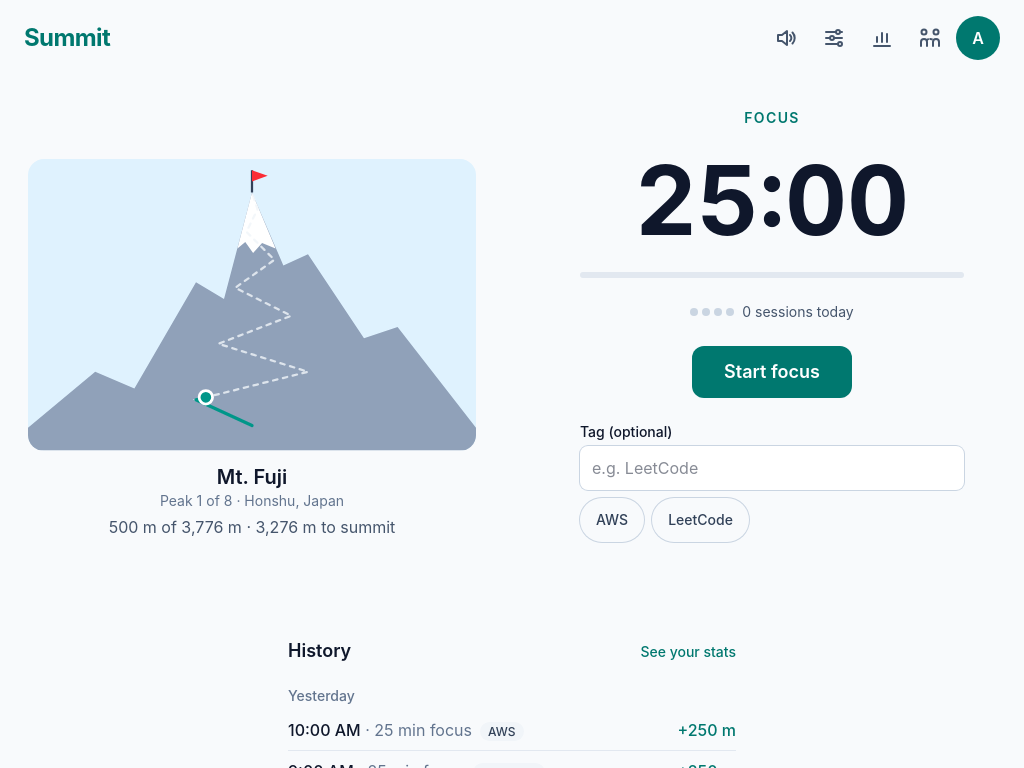
Test: tags › offers the account's recent tags and saves the chosen one with the session
The image size is (1024, 768).
Expected: the link named "Account (Ana)" is shown, [956,16,1000,60]
Expected: the picture named "Climber at" is shown, [28,159,476,451]
Click the button "LeetCode": click(700, 520) [652,498,749,542]
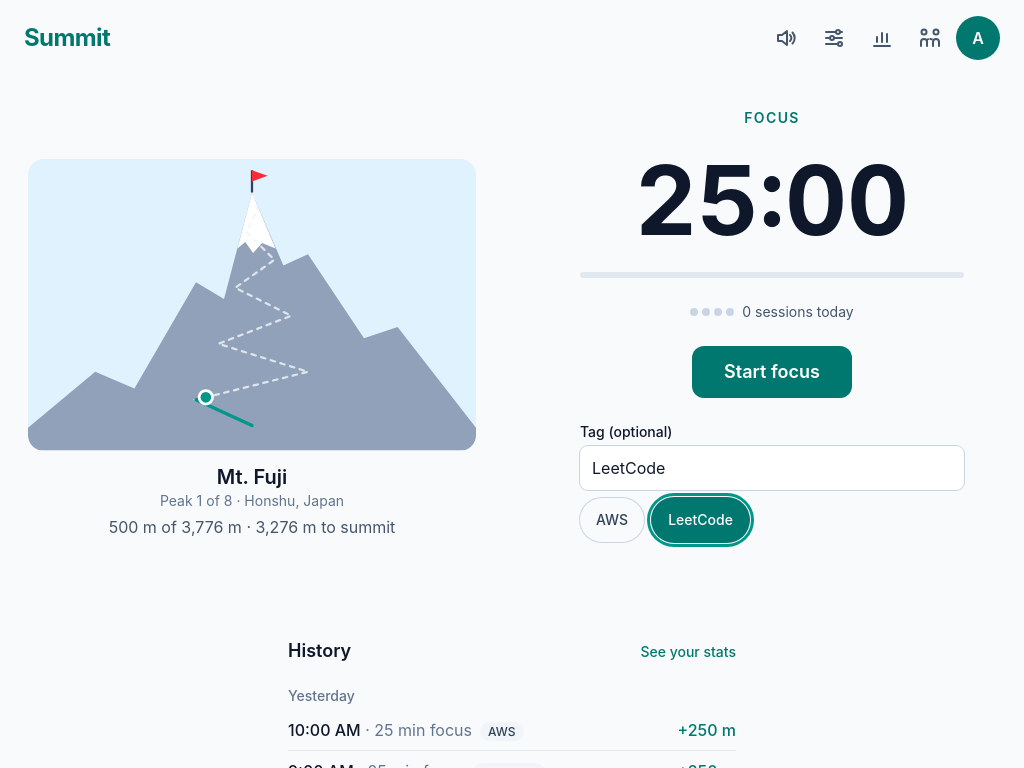
Click the button "Start focus": click(772, 372) [692,346,852,398]
Wait 1500000 ms
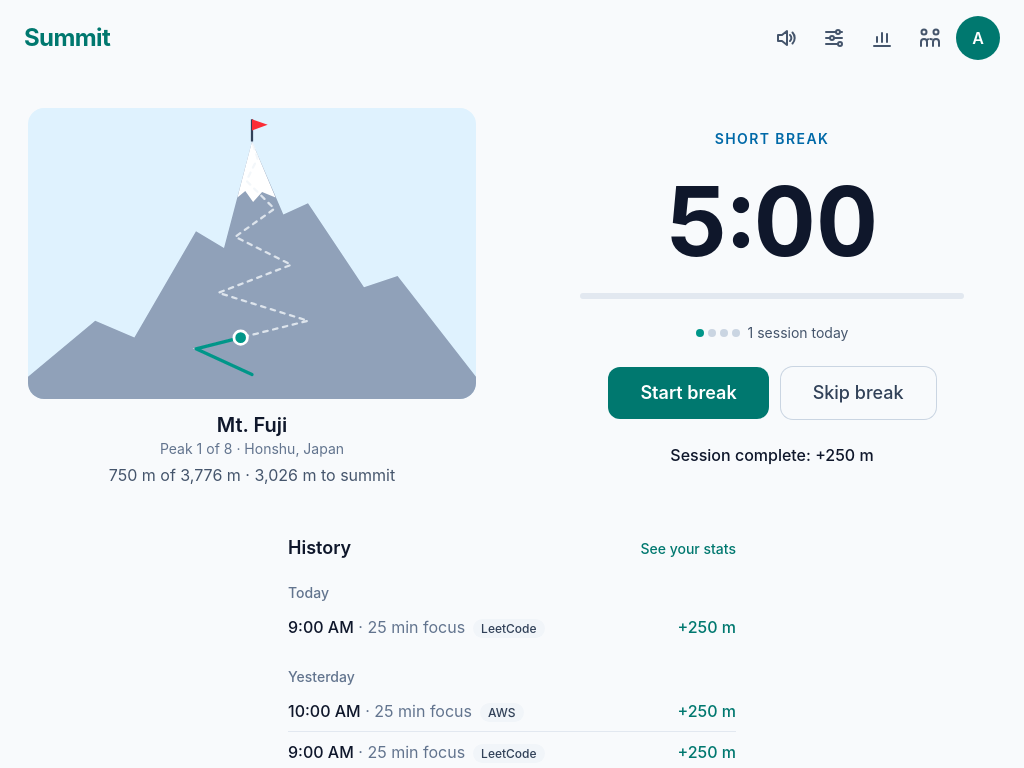
Expected: the text "LeetCode" below "10:00 AM" is shown, [481,746,537,761]
Now the text "LeetCode" is shown 2 times, box [473,619,545,638]; [473,744,545,763]
